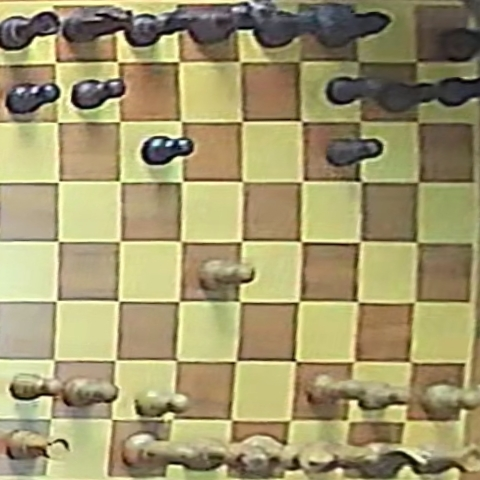black-bishop: (313, 8, 393, 49), (121, 7, 200, 48)
black-king: (250, 1, 358, 49)
black-knight: (63, 5, 134, 45)
black-pawn: (377, 79, 438, 113), (6, 82, 60, 115), (328, 76, 387, 106), (72, 78, 125, 109), (326, 138, 383, 166), (432, 75, 479, 108), (142, 136, 193, 165)
black-queen: (186, 0, 277, 47)
black-rook: (1, 11, 61, 50), (438, 25, 480, 61)
white-bishop: (124, 432, 202, 473), (299, 440, 376, 477)
white-king: (234, 433, 334, 476)
white-knight: (354, 440, 435, 477)
white-pawn: (419, 382, 479, 419), (305, 374, 367, 405), (198, 258, 254, 290), (63, 377, 119, 408), (135, 388, 190, 417), (10, 373, 63, 401), (358, 382, 408, 410)
white-queen: (177, 438, 272, 475)
white-rook: (2, 429, 71, 463), (413, 443, 480, 475)
